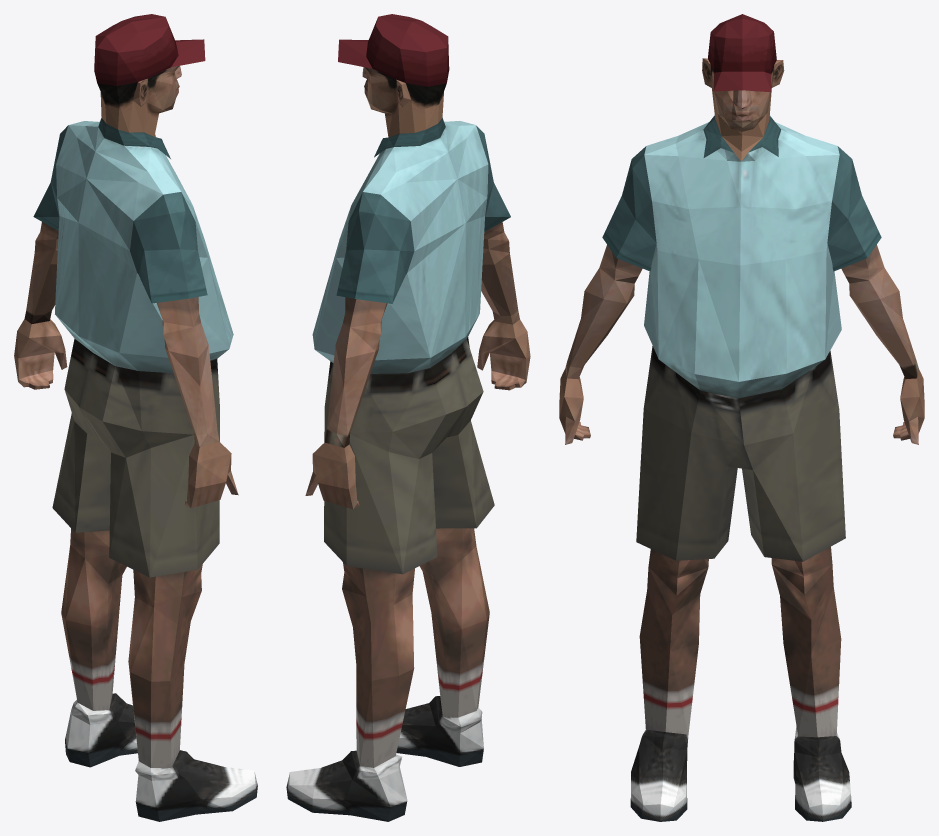
Rendered from wmygol2.obj.
3 renders of one model, left to right at view 1: azimuth 30°, elevation 25°; view 2: azimuth 150°, elevation 25°; view 3: azimuth 270°, elevation 25°, orthographic.
Visible parts, largest first — view 1: _Pelvis; view 2: _Pelvis; view 3: _Pelvis.
Part boxes in pixels (x1,y1,x2,y2): _Pelvis: [14, 14, 257, 821]; _Pelvis: [286, 14, 530, 821]; _Pelvis: [559, 14, 924, 821].
Bounding box in the file's own units: 0.3525 × 1.85 × 0.7976.
1 material, 1 textured.
